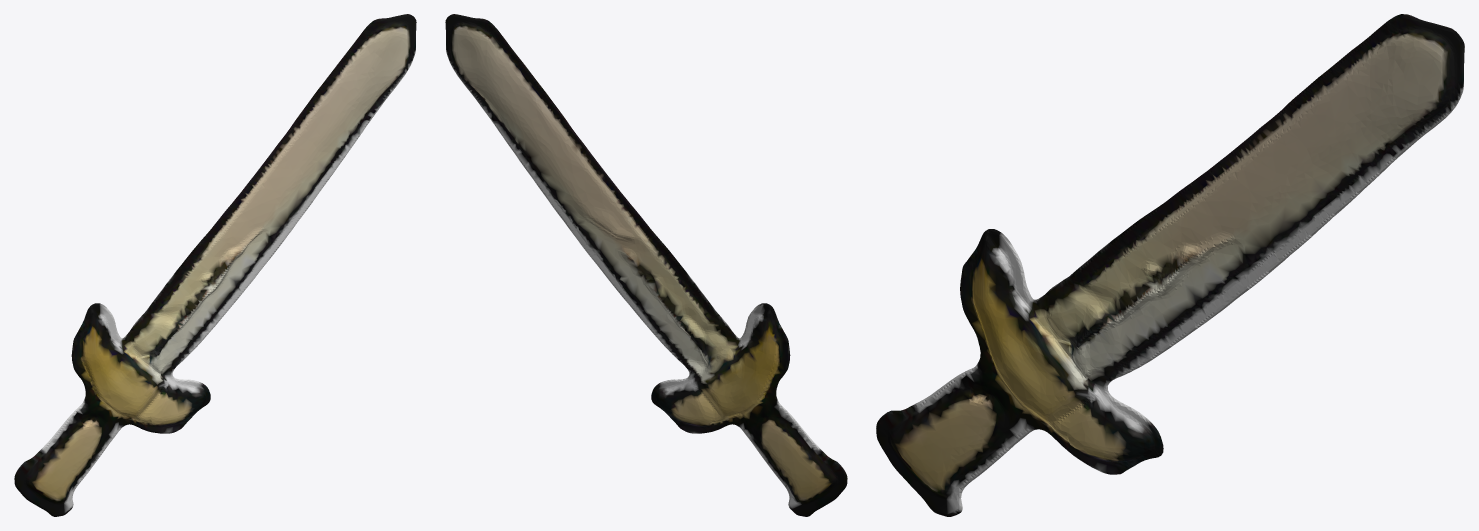
Rendered from b_sword_1.glb.
3 views of the same model, side by side, from view 1: azimuth 30°, elevation 25°; view 2: azimuth 150°, elevation 25°; view 3: azimuth 330°, elevation 25° (orthographic). The views are drawn at different scales.
Visible parts, largest first — view 1: geometry_0; view 2: geometry_0; view 3: geometry_0.
Part boxes in pixels (x1,y1,x2,y2): geometry_0: (14, 14, 416, 516); geometry_0: (445, 14, 847, 516); geometry_0: (876, 14, 1464, 516).
Size of the model in its own units: 0.9062 by 0.9044 by 0.0321.
